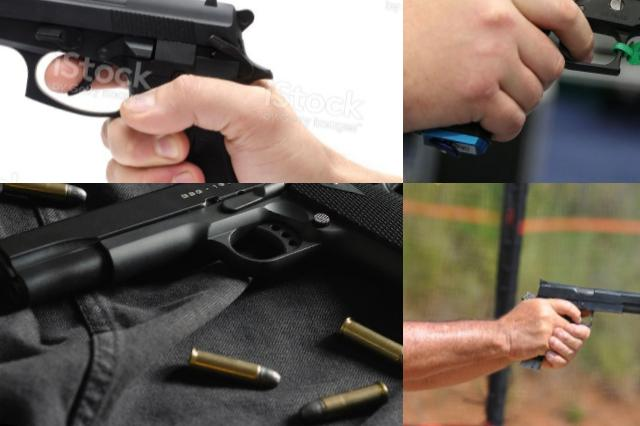handgun: (0, 183, 403, 388), (0, 0, 290, 183), (403, 0, 640, 183), (506, 268, 640, 389)
